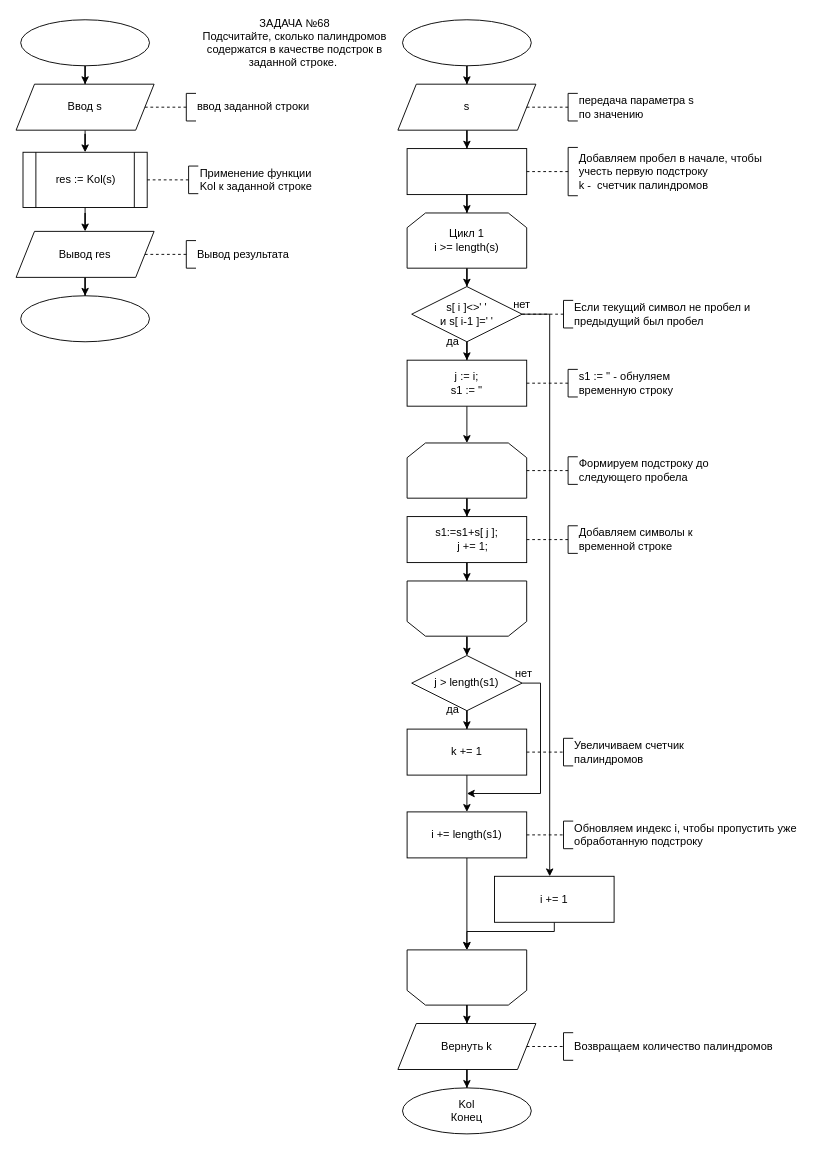
The diagram is 814 pixels wide and 1150 high, and some of its shapes have lost their labels. The shapes that lost their labels are listed below. From the top down, each one's centre as x and y in pixels, then its label:
At (85,42): "Начало".
At (466,42): "Kol Начало".
At (466,171): "s := ' ' + s k := 0; i := 2".
At (85,318): "Конец".
At (466,470): "Цикл 1.1 j > length(s) и s[ j ] = 0".
At (466,608): "Цикл 1.1".
At (466,977): "Цикл 1".
